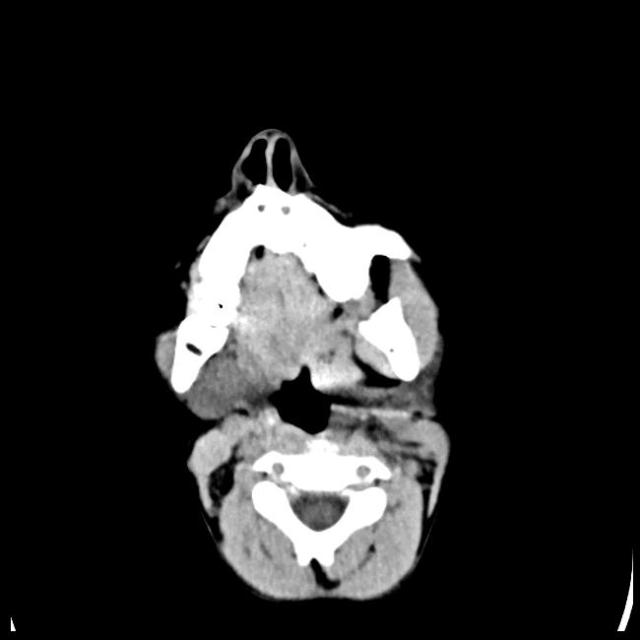lesion: (149, 124, 458, 607)
